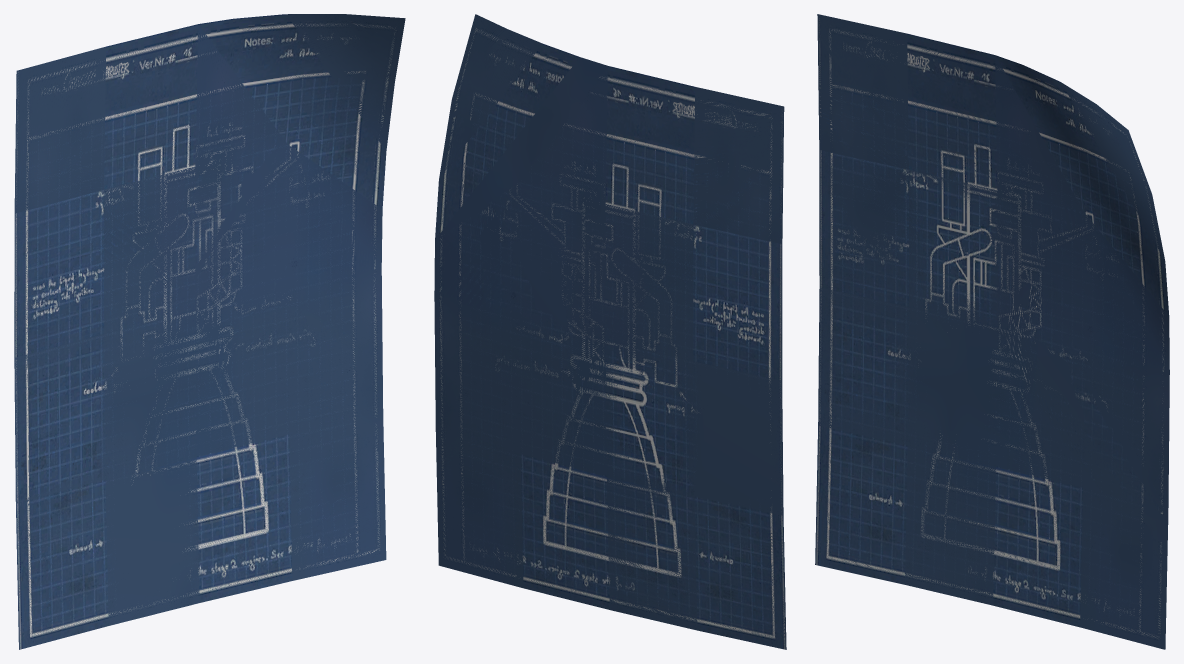
Rendered from rocket_blueprint_02.dae.
The picture shows the model from 3 angles, left to right: view 1: azimuth 30°, elevation 25°; view 2: azimuth 150°, elevation 25°; view 3: azimuth 330°, elevation 25°; orthographic projection. The views are drawn at different scales.
Visible parts, largest first — view 1: 02; view 2: 02; view 3: 02.
Part boxes in pixels (x1,y1,x2,y2): 02: (14, 14, 405, 649); 02: (434, 14, 786, 649); 02: (815, 14, 1169, 649).
Bounding box in the file's own units: 0.9998 × 1.5 × 0.171.
